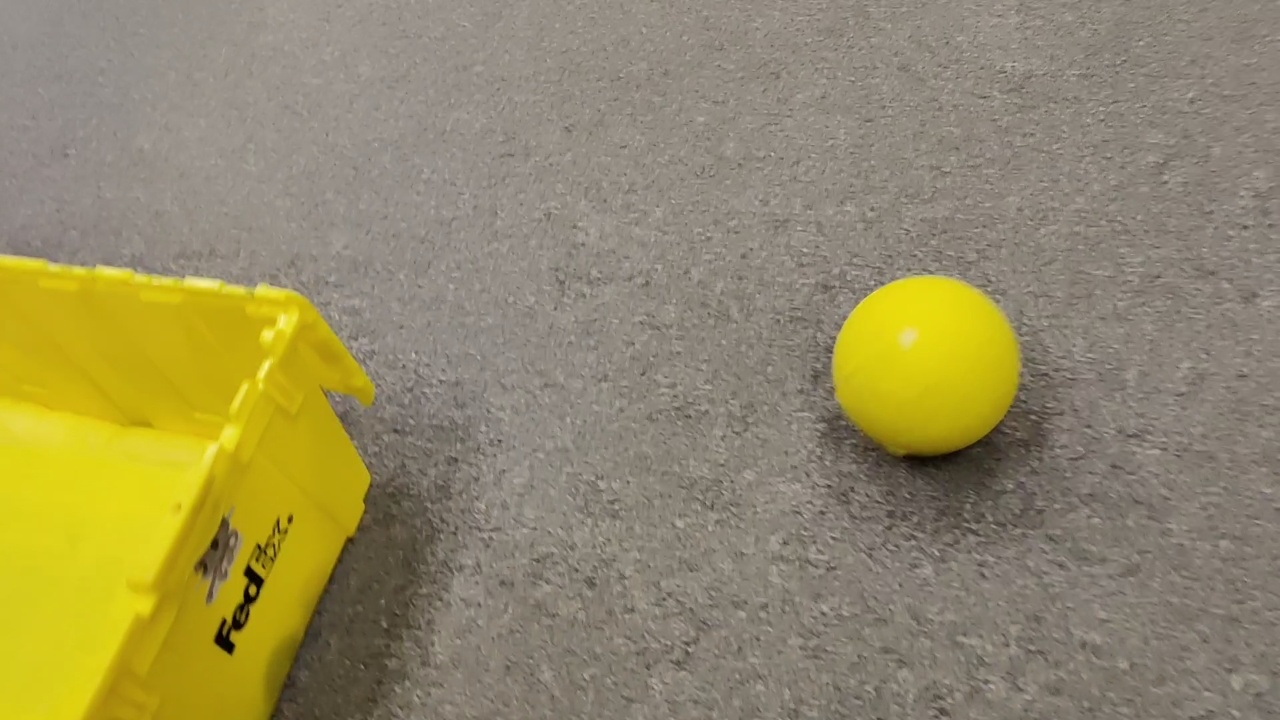Ball: (835, 274, 1025, 461)
